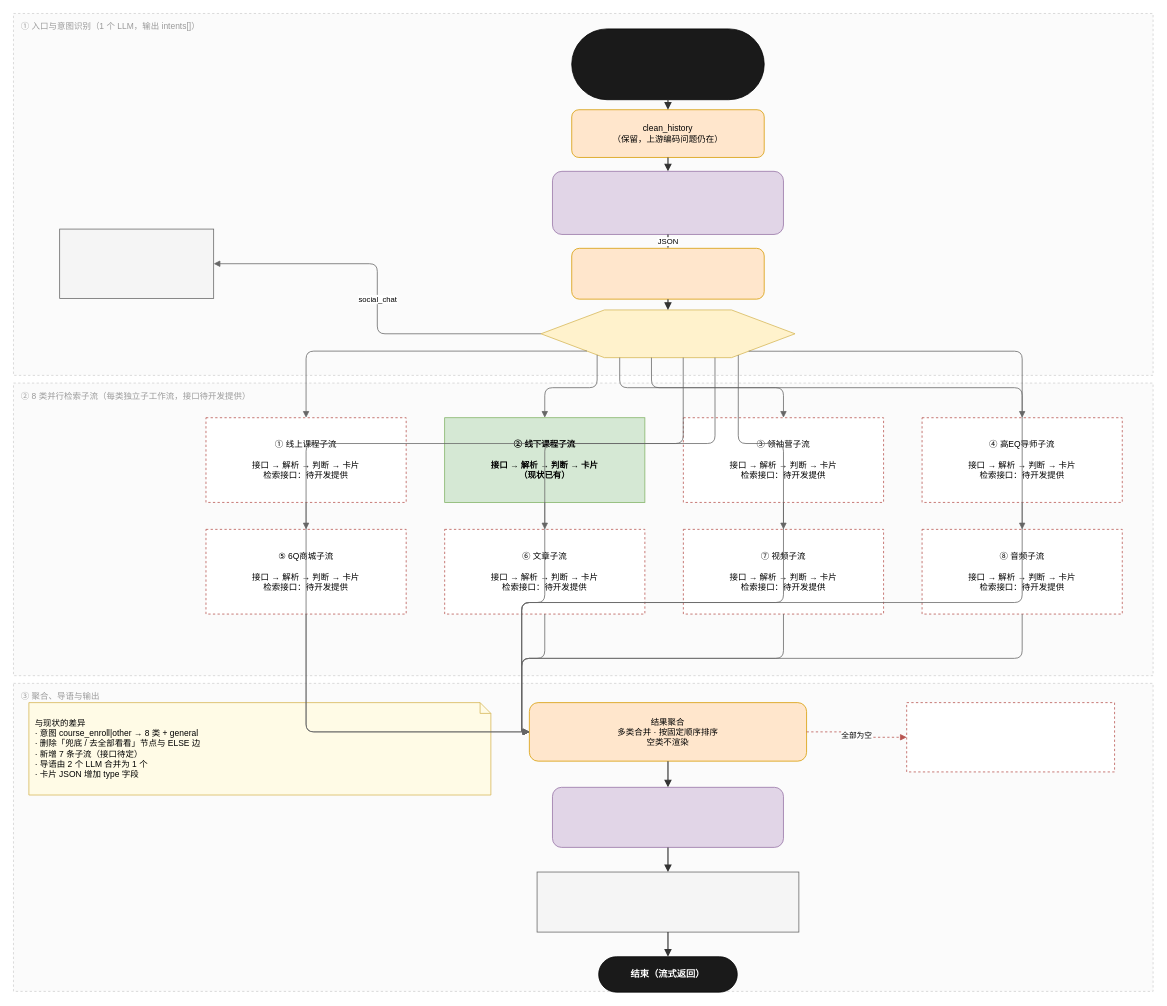
The diagram is 1167 pixels wide and 1006 high, and some of its shapes have lost their labels. The centre of each missing label's shape, as x and y in pixels:
2.2 LLM 意图识别 v6 判 8 类意图 + 抽各类 slot 输出 intents[] 数组: point (667, 202)
兜底：全类 0 结果 8 类泛搜 → 仍为空则 「没找到相关的内容，换个说法试试」: point (1010, 737)
卡片输出协议 @s_obj@ + JSON（新增 type 字段区分 8 类） @hsy 隐藏元数据: point (667, 901)
开始 query · history · user_city current_date · session_id user_id · shown_ids: point (667, 64)
统一导语 LLM（1 个节点） 按命中类目生成 1~2 段说明 不编造接口外信息: point (667, 817)
解析意图结果 intents[] · slots · confidence: point (667, 273)
路由分发（并行） 按 intents[] 拉起对应子流: point (667, 333)
闲聊分支（保留） social_chat → 1 句自然回应: point (136, 263)
